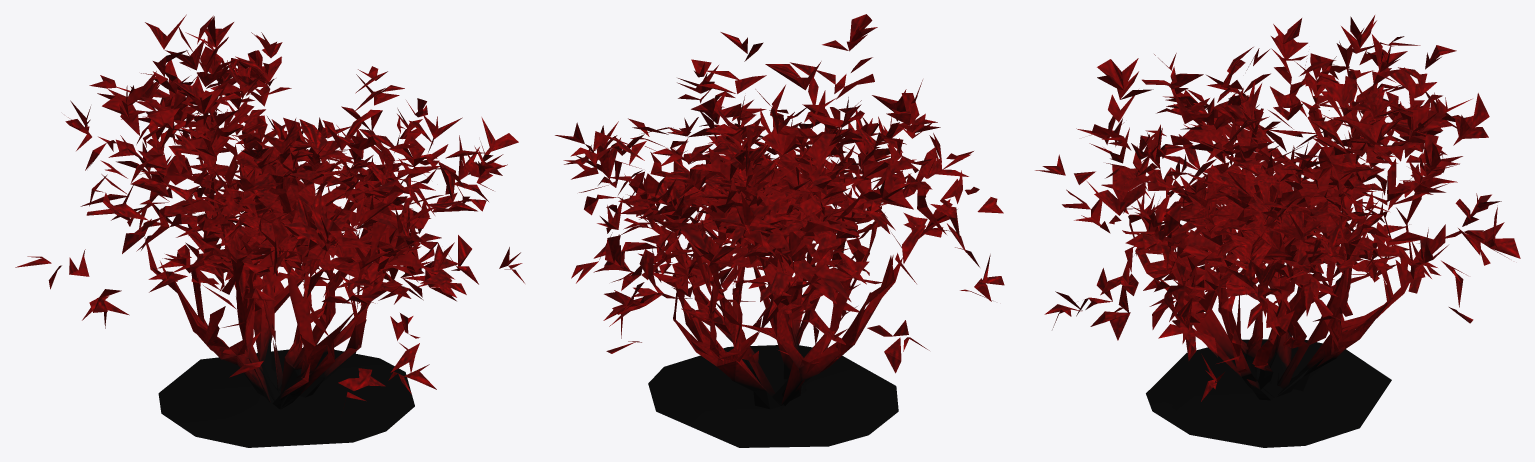
The model's file is prop_shrub.glb.
3 views of the same model, side by side, from view 1: azimuth 30°, elevation 25°; view 2: azimuth 150°, elevation 25°; view 3: azimuth 270°, elevation 25° (orthographic).
Parts seen in each view (by area): view 1: output_unwrapped; view 2: output_unwrapped; view 3: output_unwrapped.
Part boxes in pixels (x1,y1,x2,y2): output_unwrapped: (15, 14, 524, 447); output_unwrapped: (555, 14, 1004, 447); output_unwrapped: (1035, 15, 1520, 447).
Bounding box in the file's own units: 1.85 × 1.42 × 1.77.
Materials: 1 (1 with a texture image).
